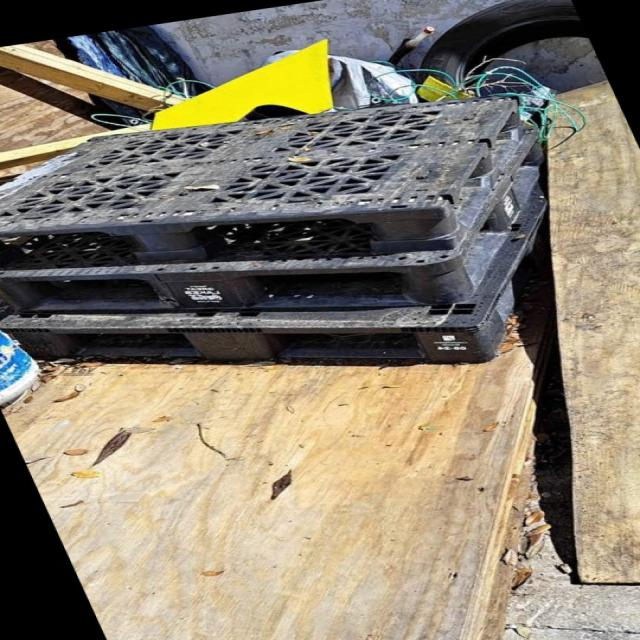non-igps: (0, 160, 556, 373), (0, 114, 560, 321), (0, 77, 551, 276)
